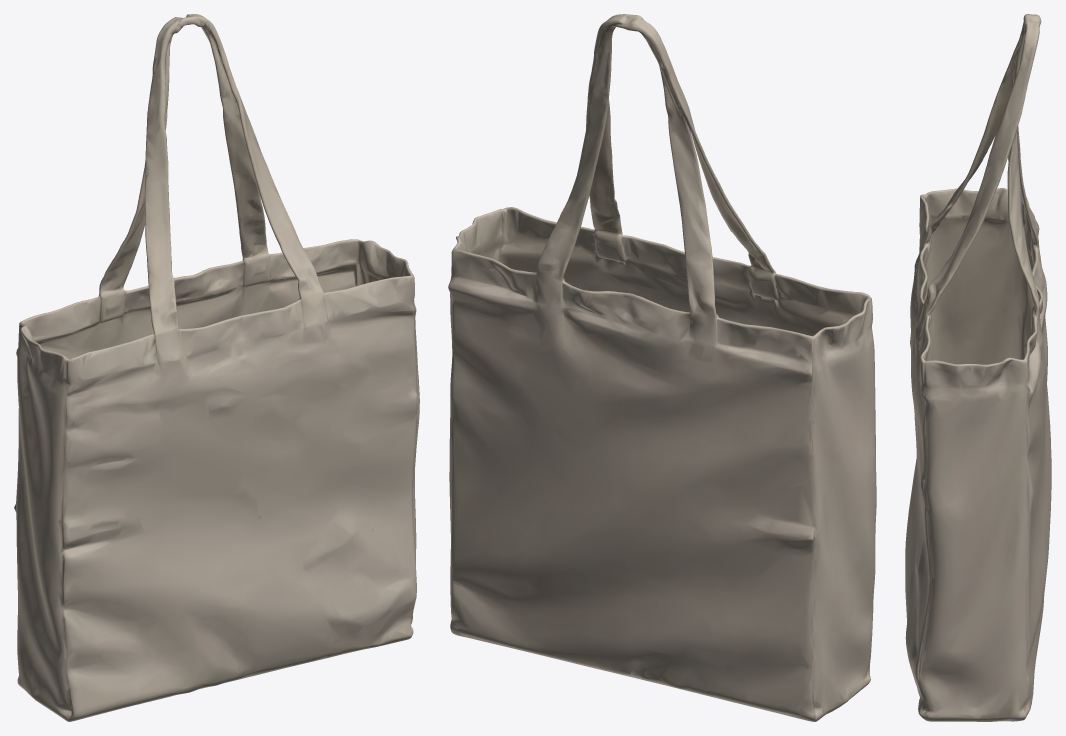
3 views of the same model, side by side, from view 1: azimuth 30°, elevation 25°; view 2: azimuth 150°, elevation 25°; view 3: azimuth 270°, elevation 25° (orthographic). The views are drawn at different scales.
Visible parts, largest first — view 1: tripo_node_e46f97a3-9f8b-4480-ae6e-d0fe6d982be0; view 2: tripo_node_e46f97a3-9f8b-4480-ae6e-d0fe6d982be0; view 3: tripo_node_e46f97a3-9f8b-4480-ae6e-d0fe6d982be0.
Boxes of the visible parts, x1,y1,x2,y2 form: tripo_node_e46f97a3-9f8b-4480-ae6e-d0fe6d982be0: (14, 14, 419, 721); tripo_node_e46f97a3-9f8b-4480-ae6e-d0fe6d982be0: (448, 14, 876, 721); tripo_node_e46f97a3-9f8b-4480-ae6e-d0fe6d982be0: (905, 14, 1051, 721).
Bounding box in the file's own units: 0.6182 × 0.9997 × 0.2132.
1 material, 1 textured.
